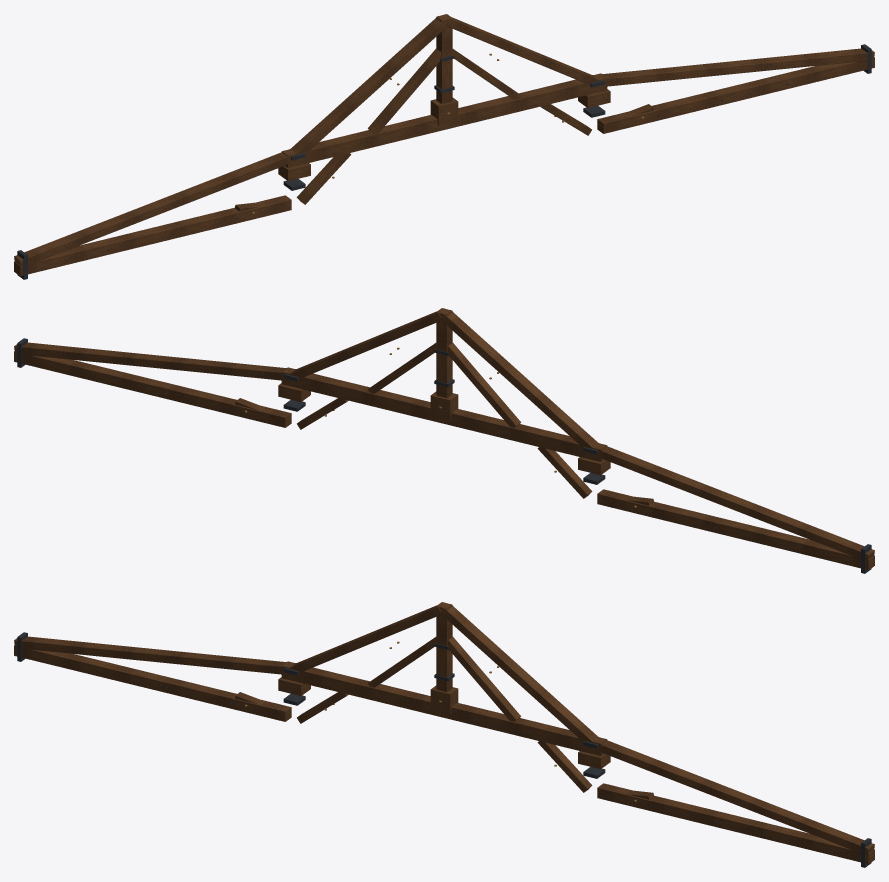
The model's file is settlement_townhall_ceiling_truss.gltf.
3 renders of one model, top to bottom at view 1: azimuth 30°, elevation 25°; view 2: azimuth 150°, elevation 25°; view 3: azimuth 330°, elevation 25°, orthographic.
Parts seen in each view (by area): view 1: settlement_townhall_ceiling_truss_LOD0; view 2: settlement_townhall_ceiling_truss_LOD0; view 3: settlement_townhall_ceiling_truss_LOD0.
Part boxes in pixels (<box>): settlement_townhall_ceiling_truss_LOD0: <box>14,14,874,279</box>; settlement_townhall_ceiling_truss_LOD0: <box>14,308,874,573</box>; settlement_townhall_ceiling_truss_LOD0: <box>14,602,874,867</box>.
Size of what is drawn, in the model's own units: 17.12 by 3 by 0.34.
Materials: 3 (3 with a texture image).
